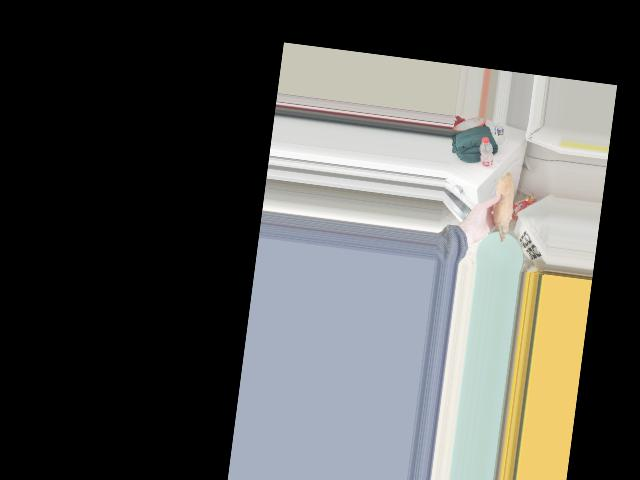sweet_potato: (487, 179, 515, 237)
